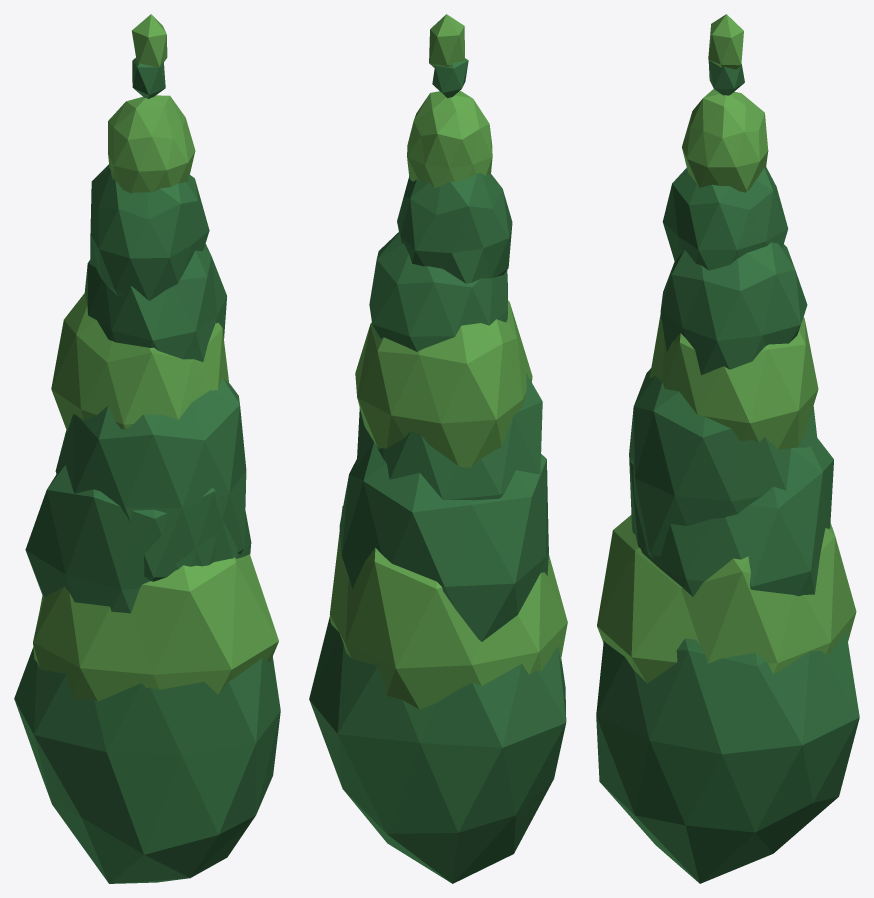
Rendered from cypress_tree.glb.
3 views of the same model, side by side, from view 1: azimuth 30°, elevation 25°; view 2: azimuth 150°, elevation 25°; view 3: azimuth 270°, elevation 25° (orthographic).
Visible parts, largest first — view 1: Cypress Tree; view 2: Cypress Tree; view 3: Cypress Tree.
Part boxes in pixels (left/top/right/bottom): Cypress Tree: left=14, top=14, right=280, bottom=883; Cypress Tree: left=309, top=14, right=567, bottom=883; Cypress Tree: left=596, top=14, right=859, bottom=883.
Bounding box in the file's own units: 1.35 × 4.67 × 1.3.
1 material, 1 textured.
